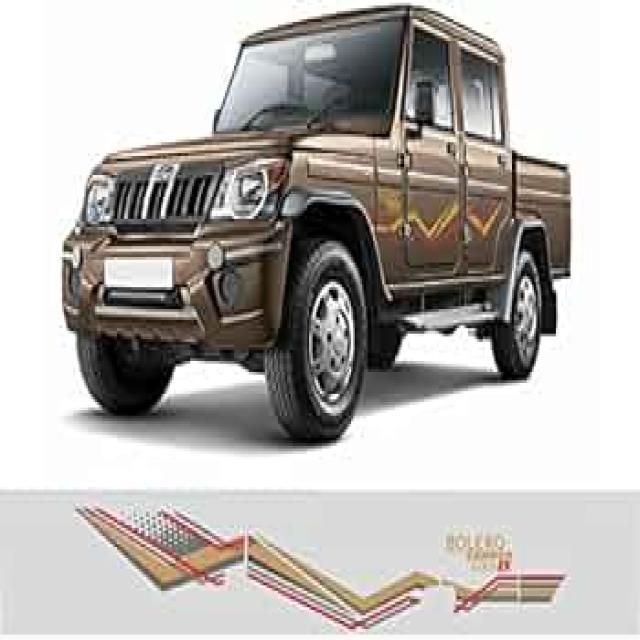light_vehicle: (54, 13, 574, 448)
